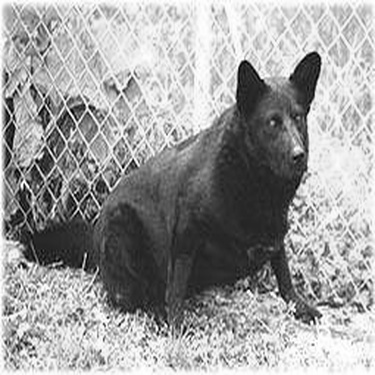dog: (15, 40, 329, 340)
